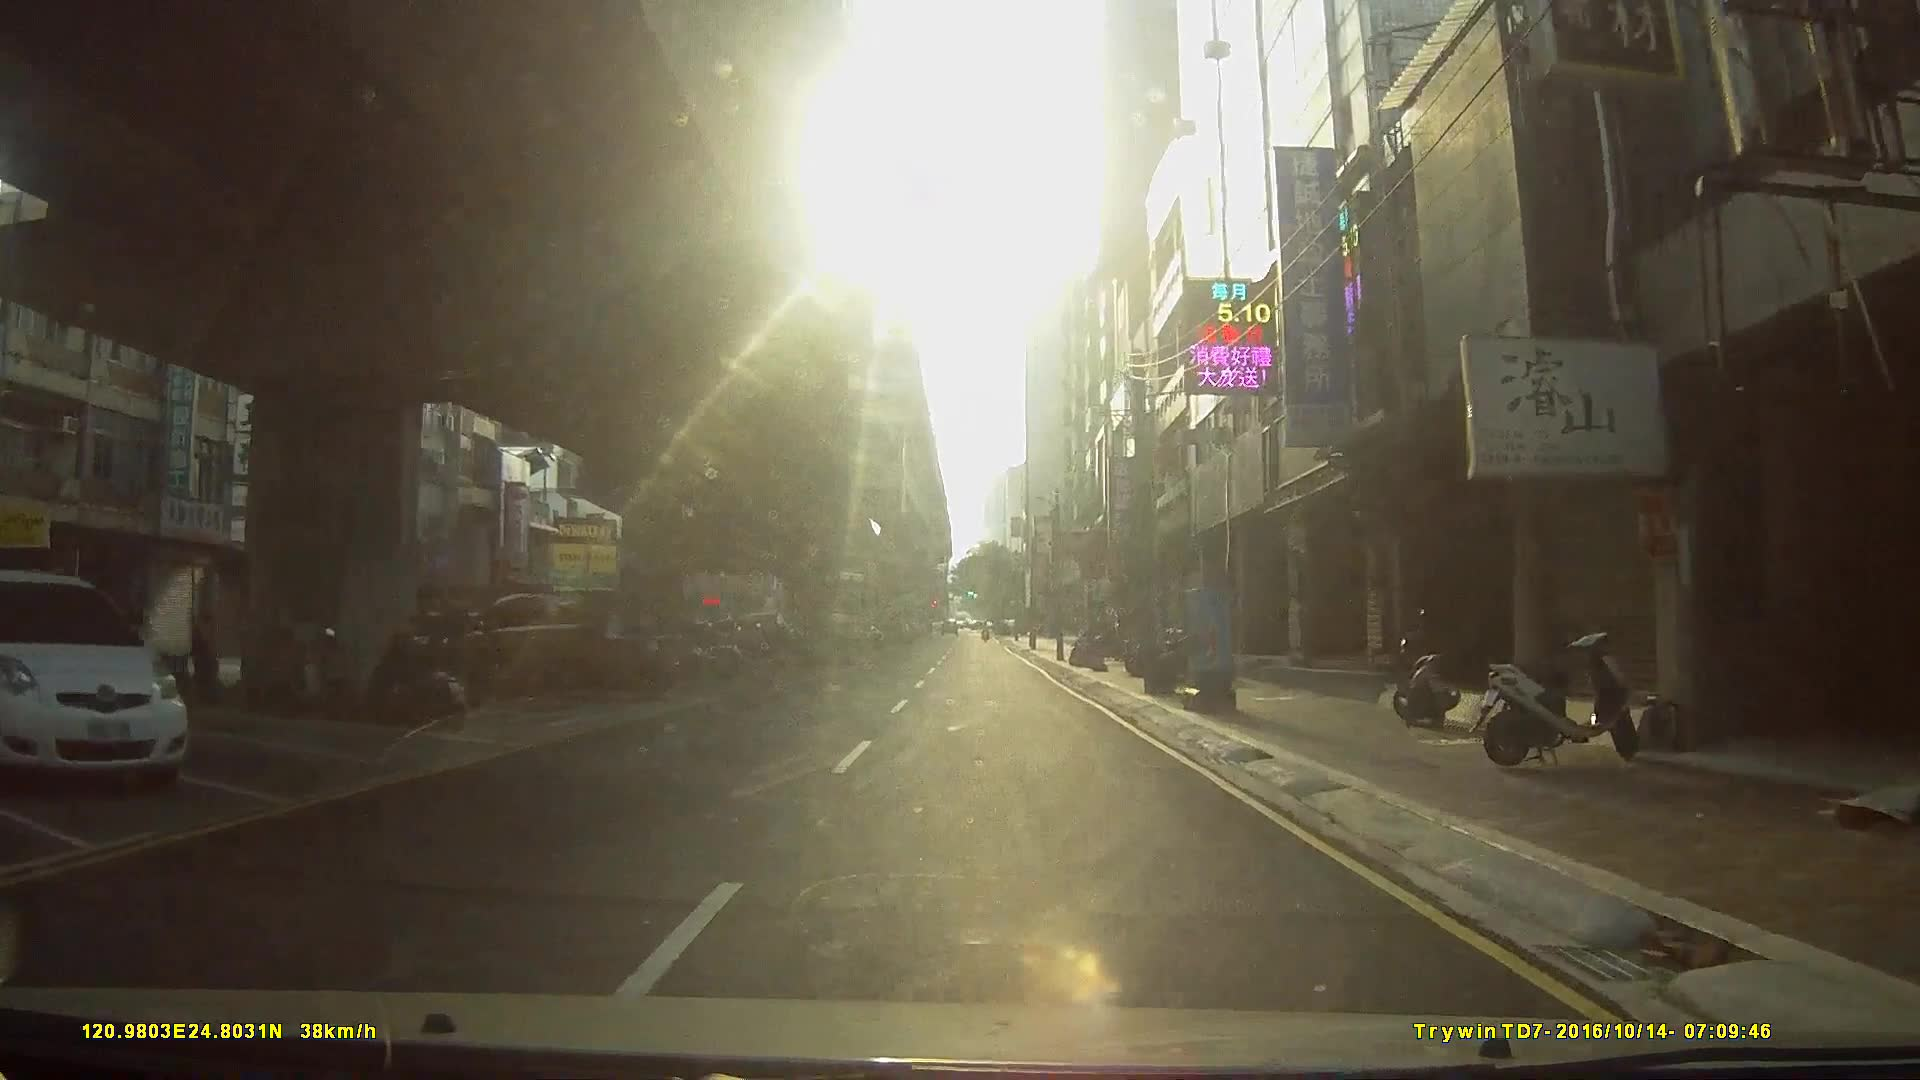vehicle: (0, 564, 189, 789), (444, 587, 682, 699), (617, 618, 740, 684)
